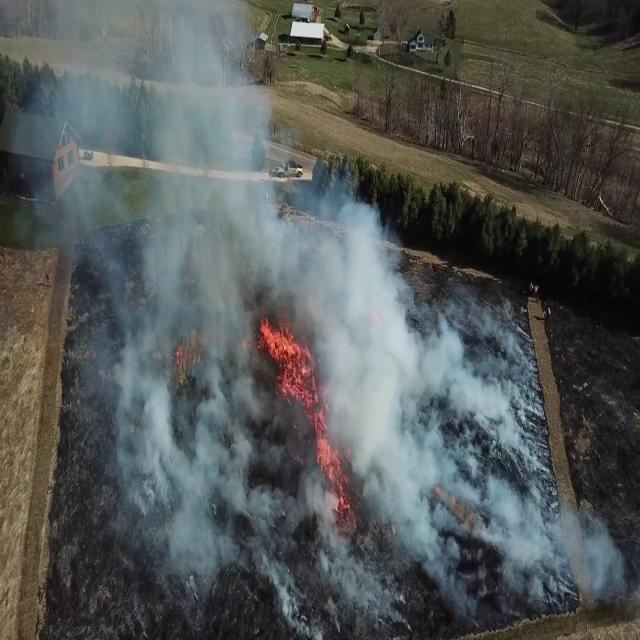Fire: (264, 293, 332, 431)
Smoke: (66, 3, 306, 631), (294, 177, 560, 619)
